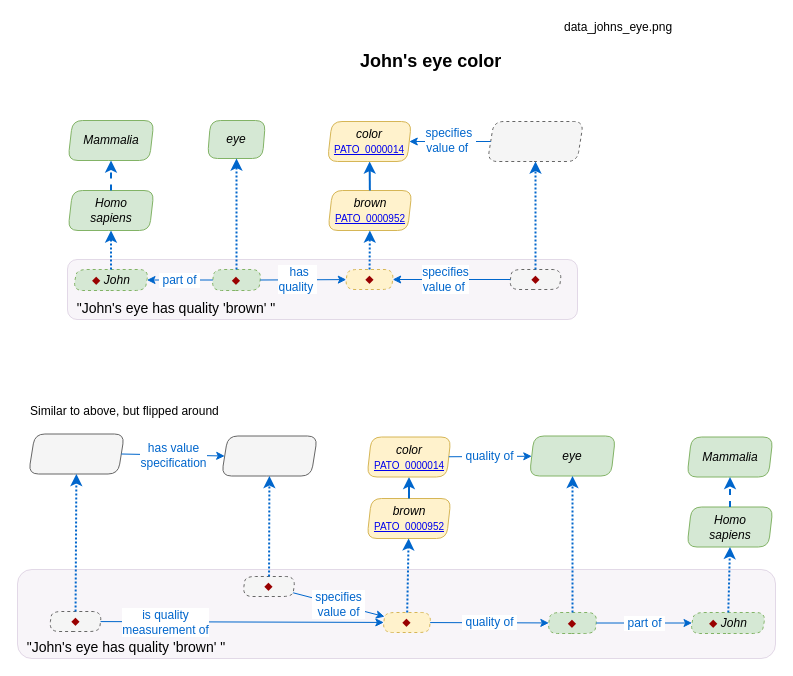
This 793x676 diagram has some shape labels left out. Here are the shapes that lost their labels. From the top down, the centre of each, then its label:
At [535,141]: "color value specification".
At [76,453]: "measurement datum".
At [269,455]: "value specification".
